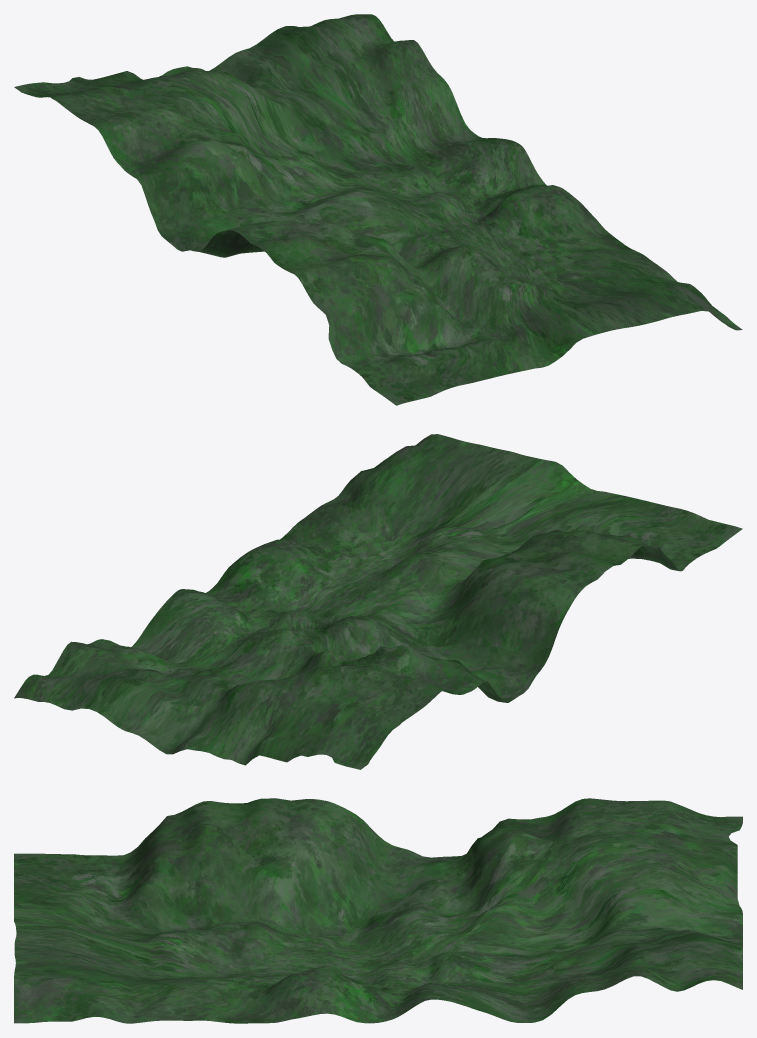
Rendered from BackgroundTerrain.fbx.
3 views of the same model, one above another, from view 1: azimuth 30°, elevation 25°; view 2: azimuth 150°, elevation 25°; view 3: azimuth 270°, elevation 25° (orthographic). The views are drawn at different scales.
Visible parts, largest first — view 1: BackgroundTerrain; view 2: BackgroundTerrain; view 3: BackgroundTerrain.
Boxes of the visible parts, bbox=[...] form: BackgroundTerrain: bbox=[14, 14, 742, 405]; BackgroundTerrain: bbox=[14, 434, 742, 769]; BackgroundTerrain: bbox=[14, 798, 742, 1023].
Size of the model in its own units: 42.6 by 8.91 by 81.42.
